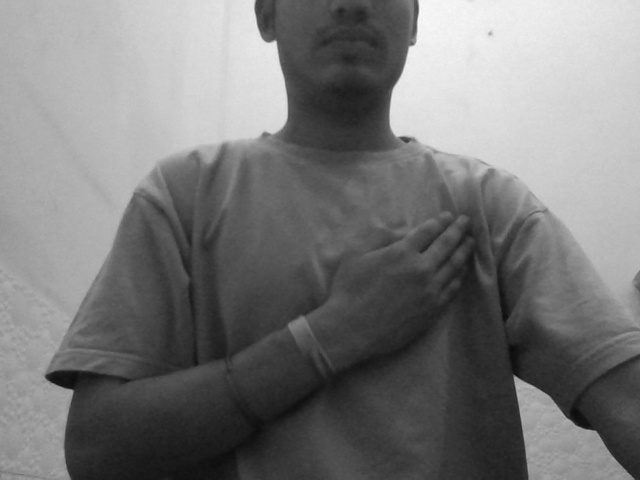Sorry: (271, 195, 511, 389)
